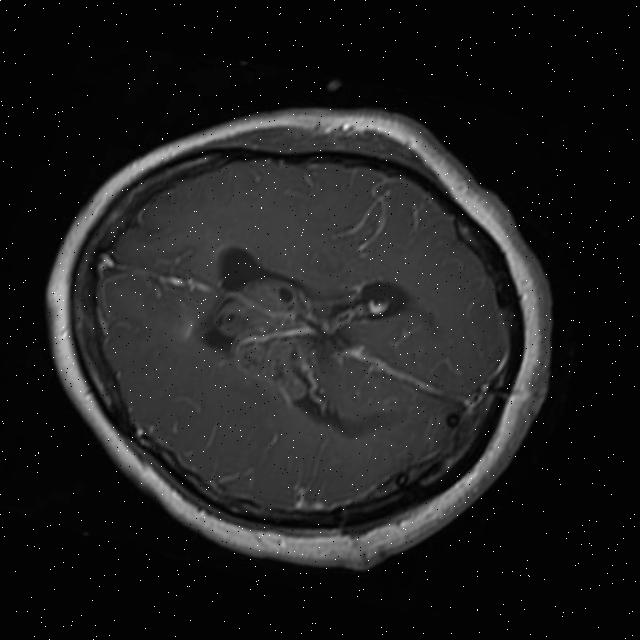Glioma: (191, 262, 342, 410)
